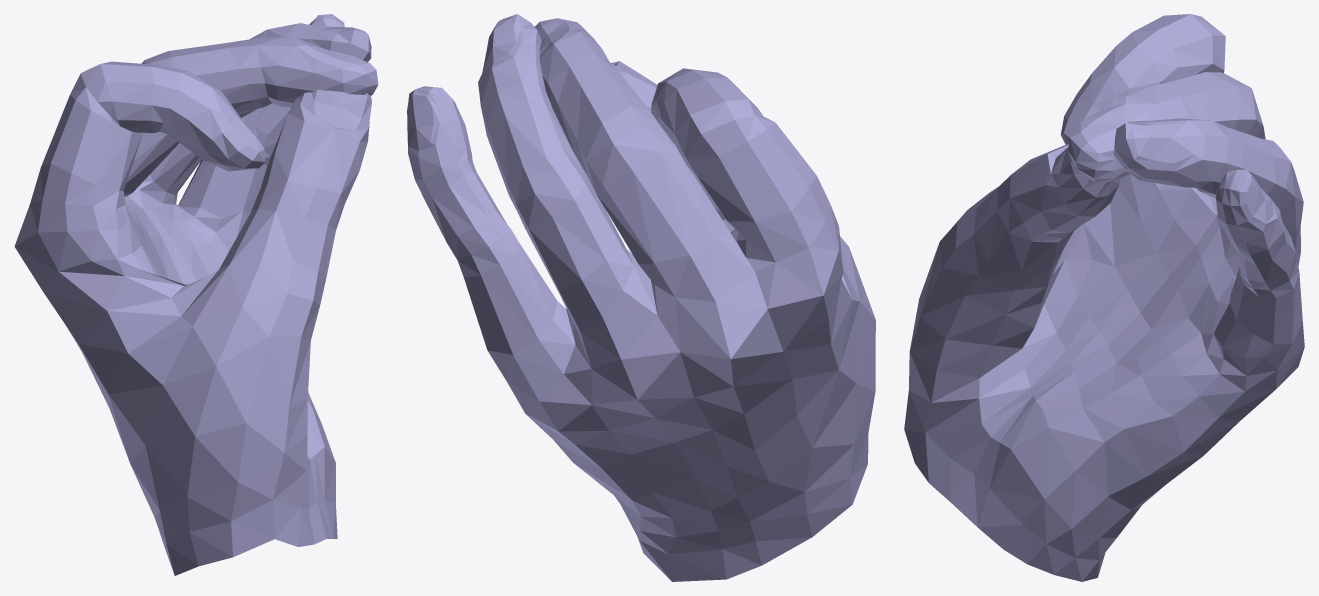
Rendered from frame_0029_source_000029_hand.glb.
The picture shows the model from 3 angles, left to right: view 1: azimuth 30°, elevation 25°; view 2: azimuth 150°, elevation 25°; view 3: azimuth 270°, elevation 25°; orthographic projection. The views are drawn at different scales.
Visible parts, largest first — view 1: world; view 2: world; view 3: world.
Part boxes in pixels (x1,y1,x2,y2): world: [14, 14, 378, 575]; world: [407, 14, 875, 581]; world: [904, 14, 1304, 581].
Size of the model in its own units: 0.0986 by 0.1325 by 0.0925.
